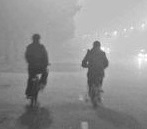person: (24, 33, 51, 107), (81, 40, 109, 106)
